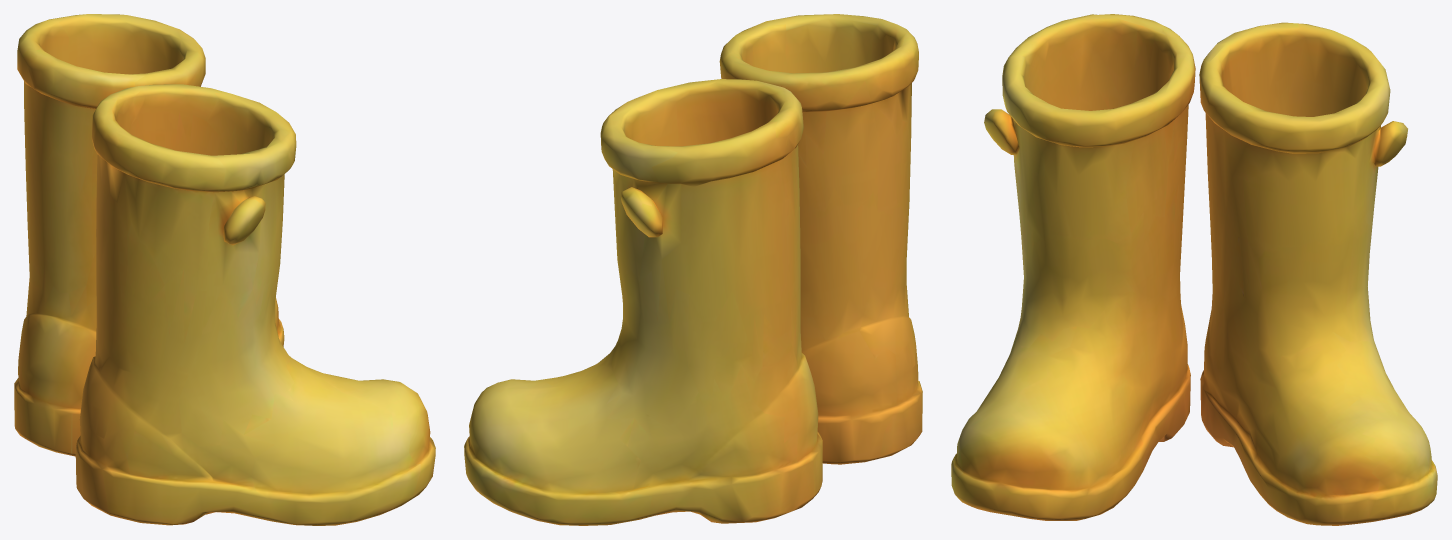
The model's file is rain_boots.glb.
3 views of the same model, side by side, from view 1: azimuth 30°, elevation 25°; view 2: azimuth 150°, elevation 25°; view 3: azimuth 270°, elevation 25° (orthographic). The views are drawn at different scales.
Visible parts, largest first — view 1: tripo_node_cfa7cffe-1614-4b11-87e2-30032f201daa; view 2: tripo_node_cfa7cffe-1614-4b11-87e2-30032f201daa; view 3: tripo_node_cfa7cffe-1614-4b11-87e2-30032f201daa.
Boxes of the visible parts, left/top/right/bottom form: tripo_node_cfa7cffe-1614-4b11-87e2-30032f201daa: left=14, top=14, right=435, bottom=525; tripo_node_cfa7cffe-1614-4b11-87e2-30032f201daa: left=464, top=14, right=922, bottom=525; tripo_node_cfa7cffe-1614-4b11-87e2-30032f201daa: left=951, top=14, right=1437, bottom=525.
Bounding box in the file's own units: 0.2137 × 0.26 × 0.2933.
Materials: 1 (1 with a texture image).
